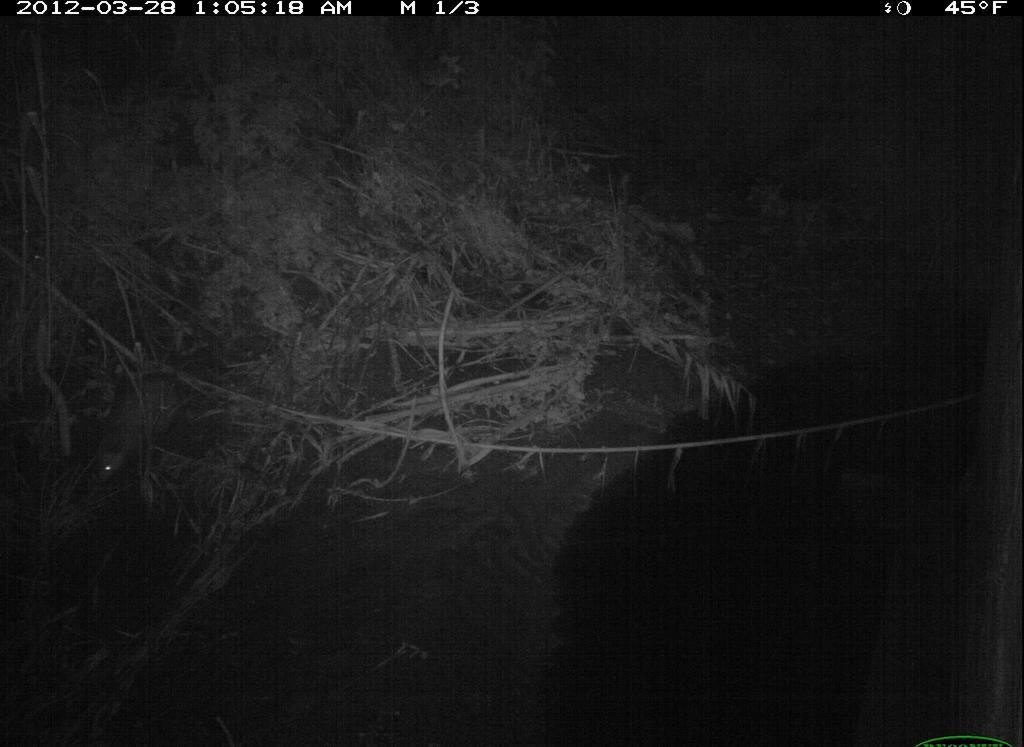opossum: (80, 356, 205, 505)
